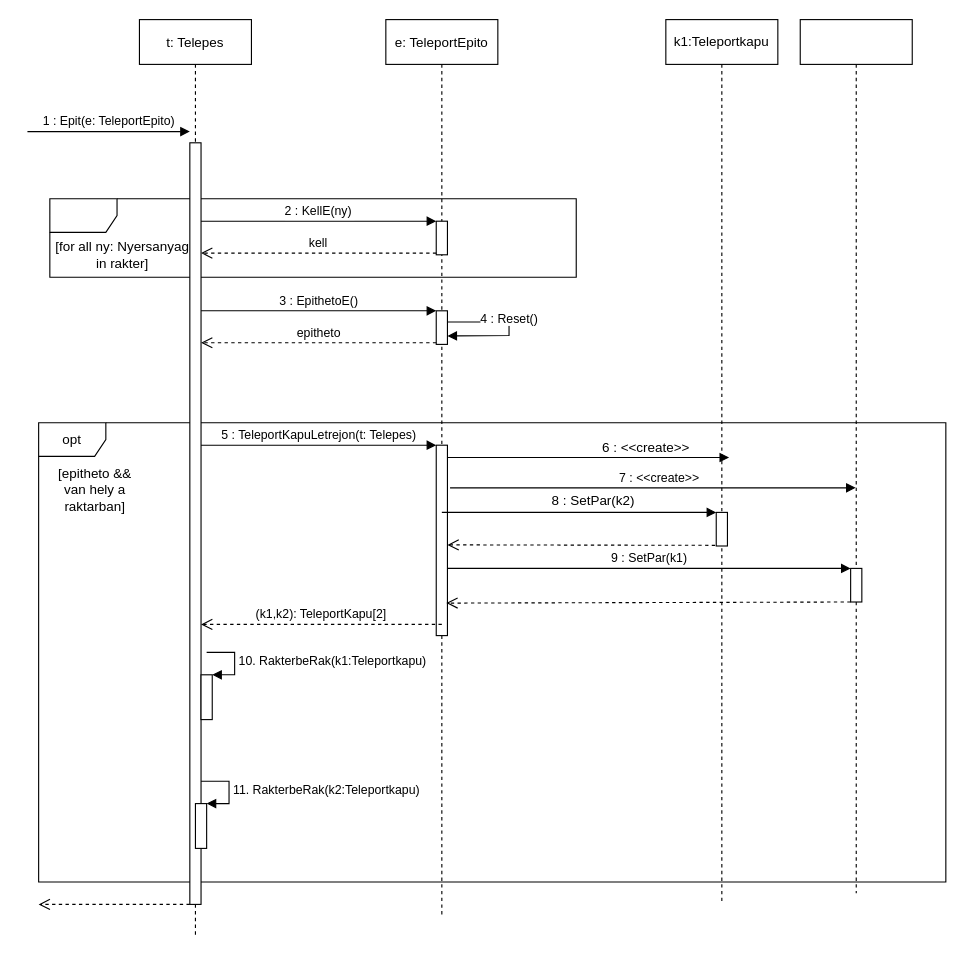
The diagram is 965 pixels wide and 958 high, and some of its shapes have lost their labels. Here are the shapes that lost their labels. From the top down, the box of each, then its label:
(49, 198, 576, 277): loop
(799, 18, 912, 893): k2:Teleportkapu
